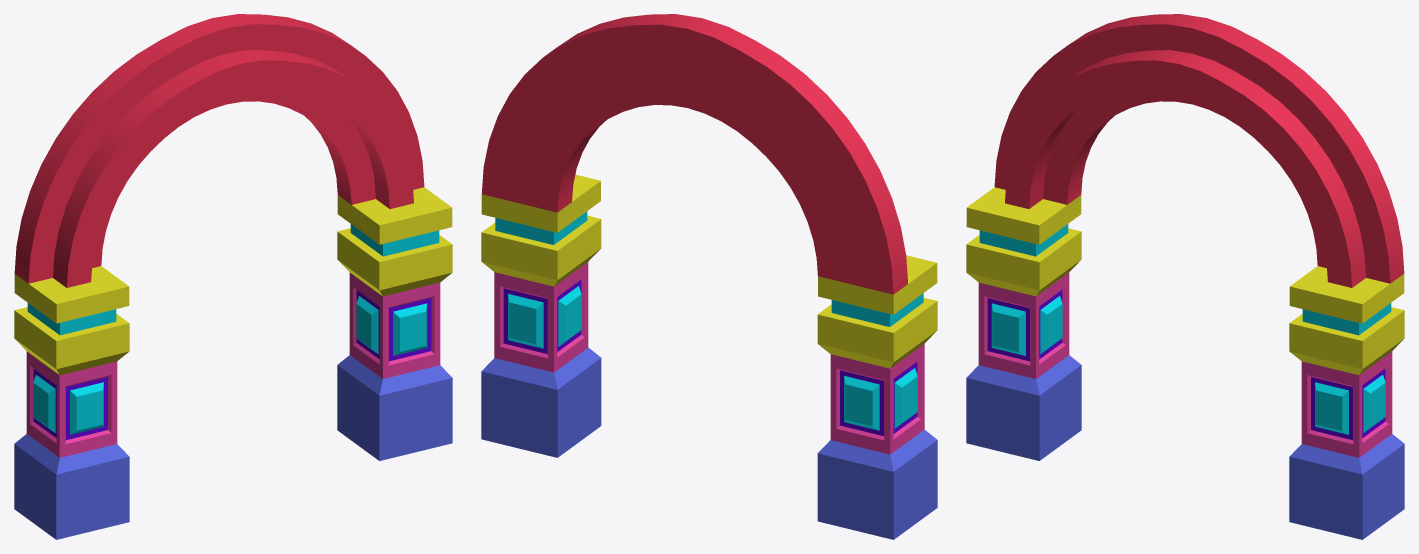
Rendered from Arco_pUERTA_fABRE.fbx.
The picture shows the model from 3 angles, left to right: view 1: azimuth 30°, elevation 25°; view 2: azimuth 150°, elevation 25°; view 3: azimuth 330°, elevation 25°; orthographic projection. The views are drawn at different scales.
Parts seen in each view (by area): view 1: Puerta_Arco; view 2: Puerta_Arco; view 3: Puerta_Arco.
Part boxes in pixels (box(x1,y1,x2,y2)): Puerta_Arco: box(14, 14, 452, 539); Puerta_Arco: box(481, 14, 937, 539); Puerta_Arco: box(966, 14, 1404, 539).
Size of the model in its own units: 515 by 550 by 94.81.
